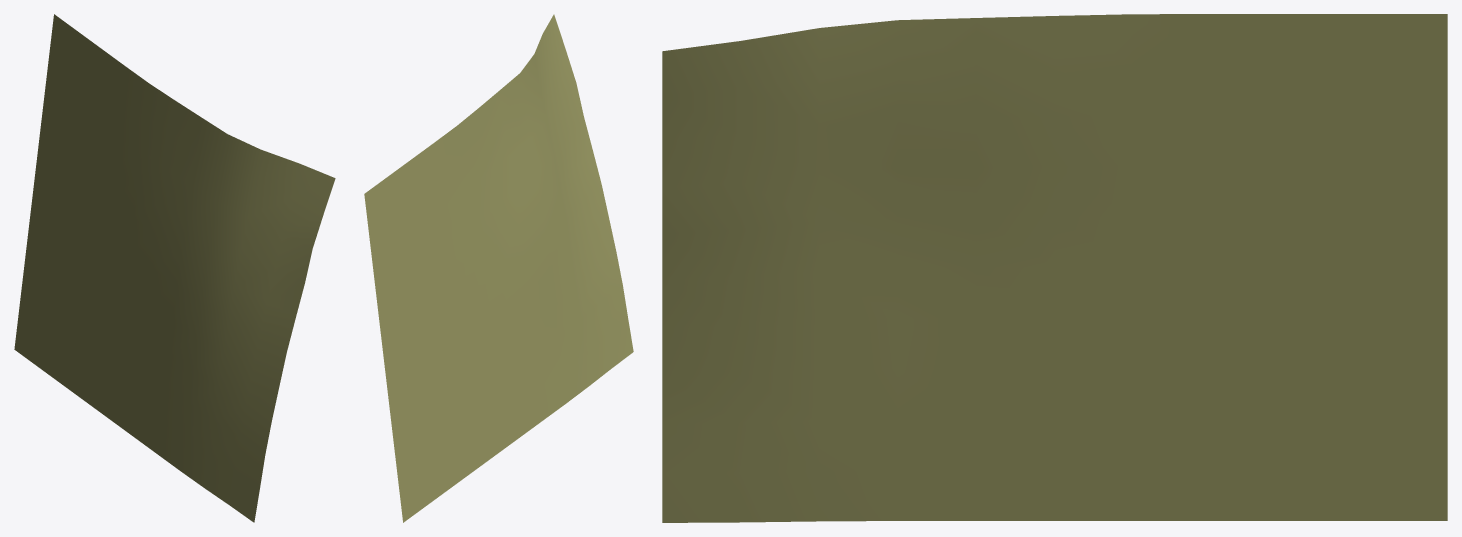
Rendered from BusMetalSheetFBX.fbx.
3 views of the same model, side by side, from view 1: azimuth 30°, elevation 25°; view 2: azimuth 150°, elevation 25°; view 3: azimuth 270°, elevation 25° (orthographic). The views are drawn at different scales.
Parts seen in each view (by area): view 1: BusMetalSheet; view 2: BusMetalSheet; view 3: BusMetalSheet.
Boxes of the visible parts, <box> form: BusMetalSheet: <box>14,14,335,522</box>; BusMetalSheet: <box>364,14,633,522</box>; BusMetalSheet: <box>662,14,1447,522</box>.
Size of the model in its own units: 0.4998 by 1.86 by 2.46.
